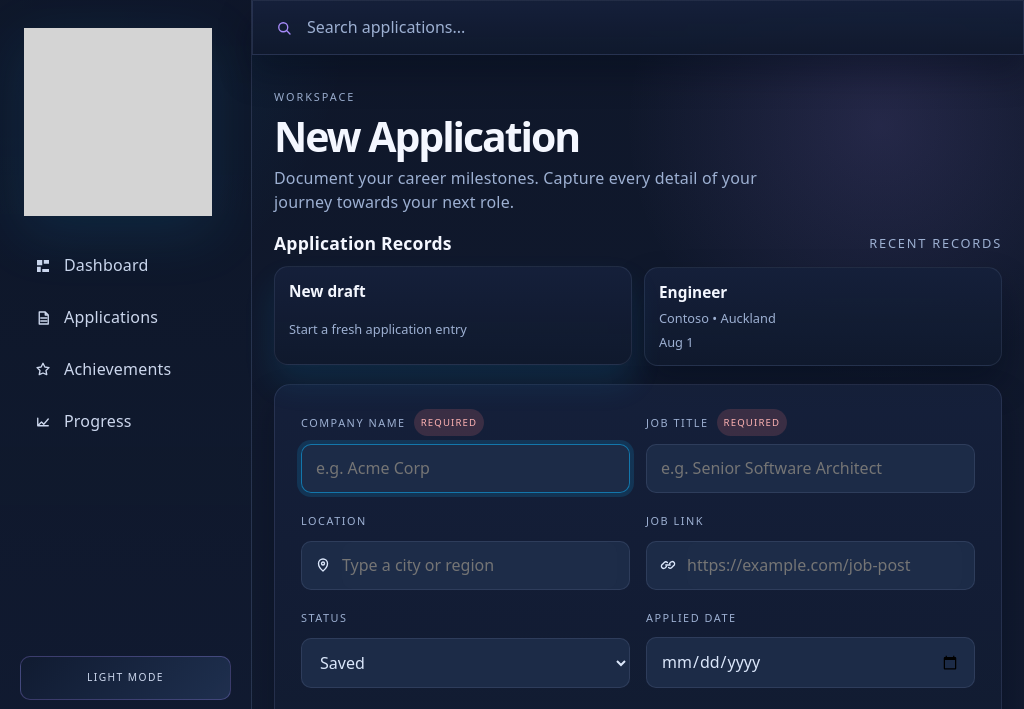
Test: ApplicationsPage › renders application records and keeps the draft workspace usable when no records match
Expected: the heading "Application Records" is shown, [274,234,452,253]
Expected: the button "Engineer Contoso • Auckland Aug 1" is shown, [644,267,1002,366]
Type "missing" into the search field labelled "Search applications". click: coordinates (653, 28)
box: [305,15,1001,40]
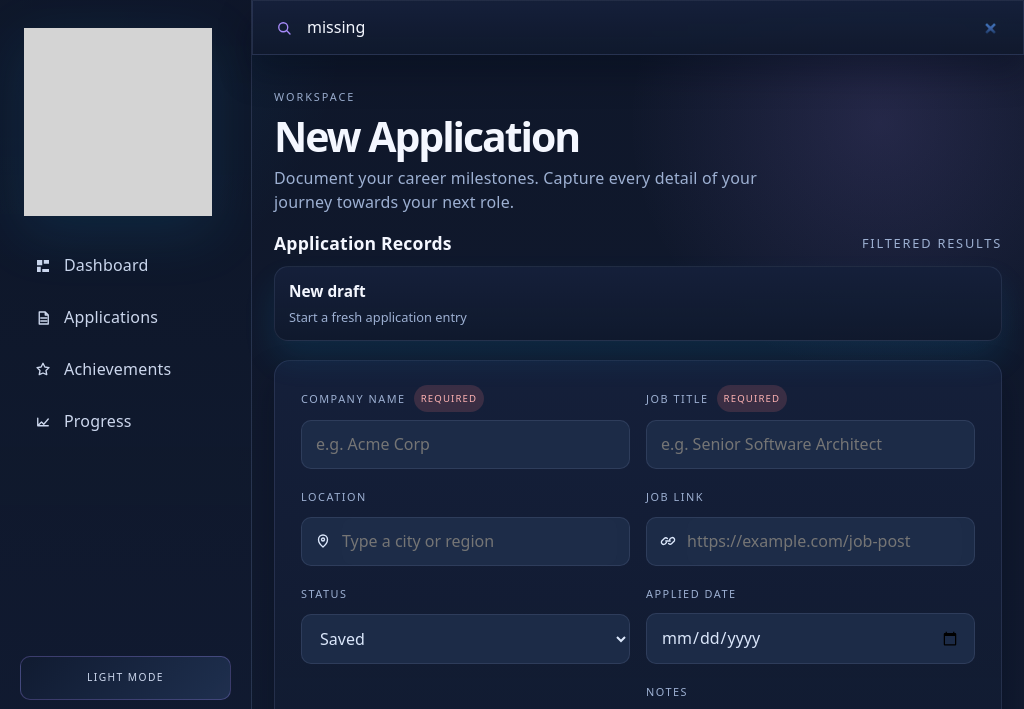
Expected: the button "New draft Start a fresh application entry" is shown, [274,266,1002,341]
Result: the button "Engineer" is gone
Result: the text "Filtered results" is shown at [862,232,1002,255]
